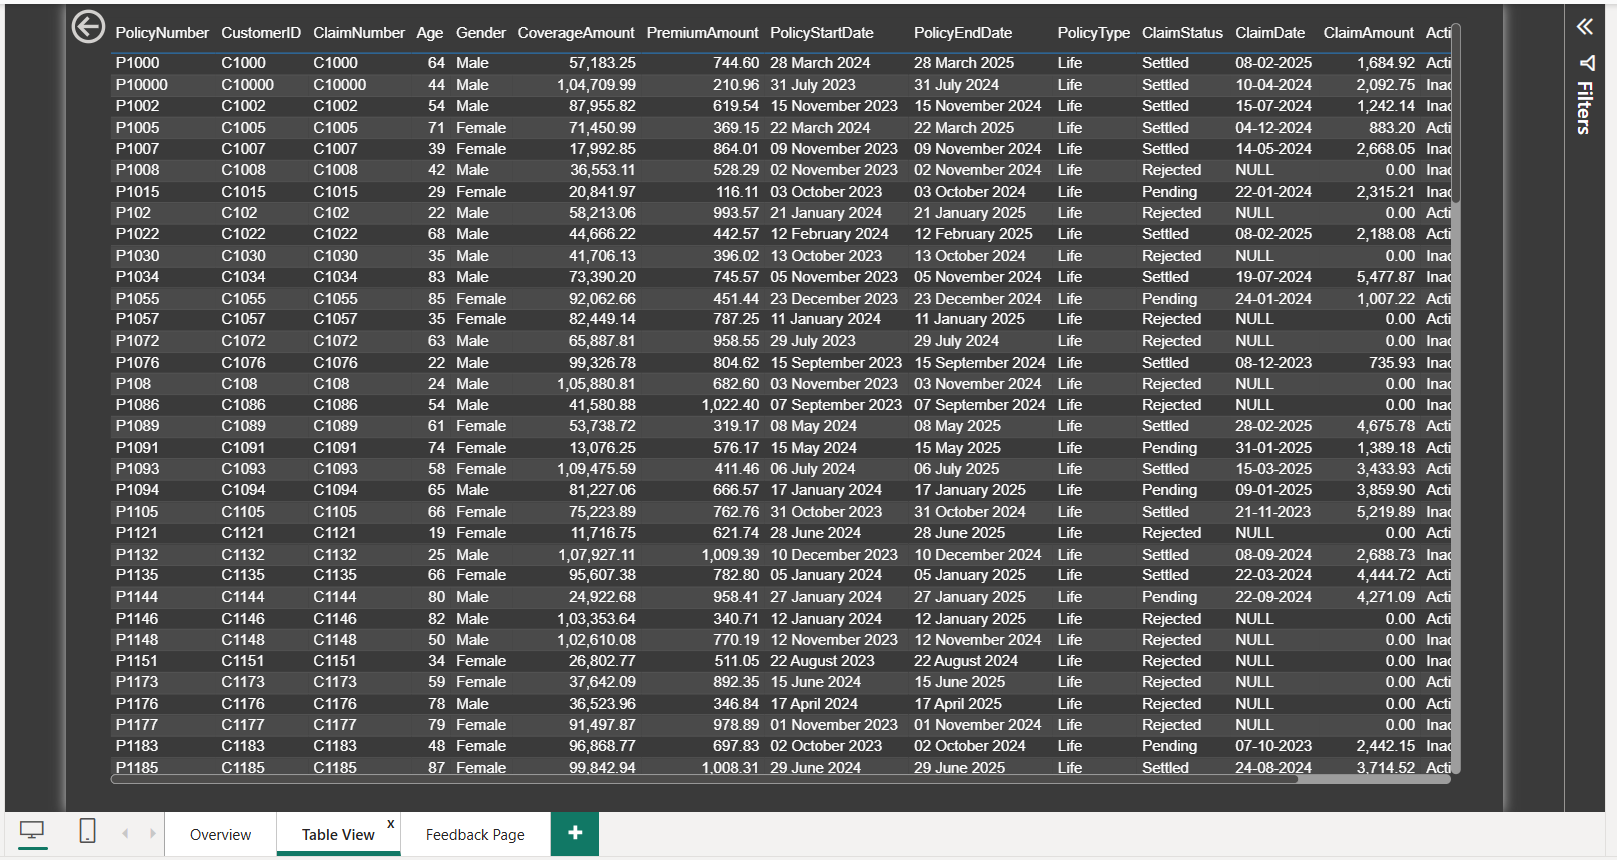

The page's visual inventory and layout, read from the dashboard file:
{"tool":"powerbi","page":{"name":"Table View","canvas":[1280,720],"ordinal":1},"visuals":[{"type":"tableEx","fields":{"Values":["InsuranceData.PolicyNumber","InsuranceData.CustomerID","InsuranceData.ClaimNumber","InsuranceData.Age","InsuranceData.Gender","InsuranceData.CoverageAmount","InsuranceData.PremiumAmount","InsuranceData.PolicyStartDate","InsuranceData.PolicyEndDate","InsuranceData.PolicyType","InsuranceData.ClaimStatus","InsuranceData.ClaimDate"]},"box":[33.7,12.8,1214,687.2],"z":0},{"type":"actionButton","box":[0,0,100,40],"z":1000}]}

Visuals, with their boxes in screenshot pixels (x1, y1, x2, y2):
tableEx - InsuranceData.PolicyNumber x InsuranceData.CustomerID: region(2, 0, 1430, 807)
actionButton: region(0, 0, 80, 30)
